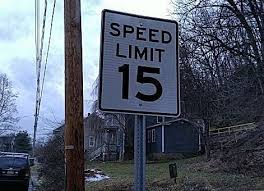speedLimit15: (98, 5, 183, 119)
